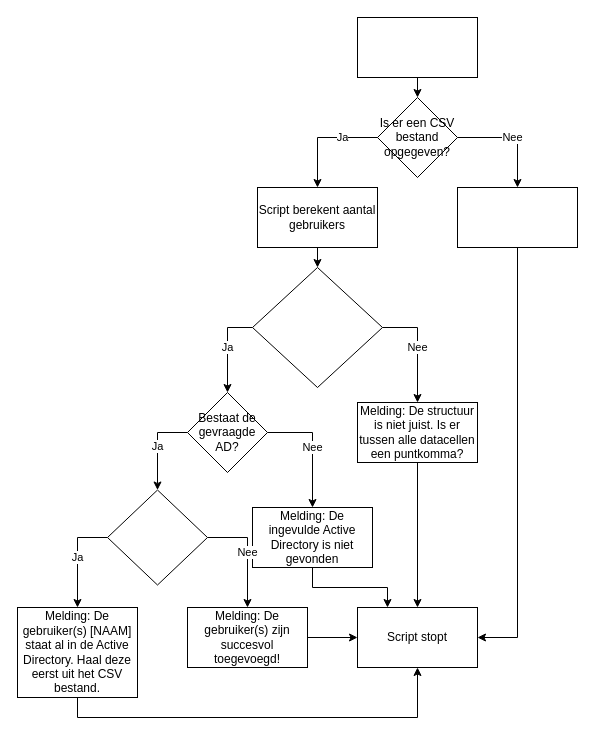
Image size: 595x743. Some labels were removed from this diagram. Here are the shapes that lost their labels. From the top down, the centre of each, then its label:
the point at 417,47: Script Start
the point at 517,217: Melding: er is geen of een leeg CSV-bestand geleverd
the point at 317,327: Is de structuur van het CSV bestand juist? (tussen alle data een ;)
the point at 157,537: Staan er gebruikers in de CSV die al in de AD staan?
